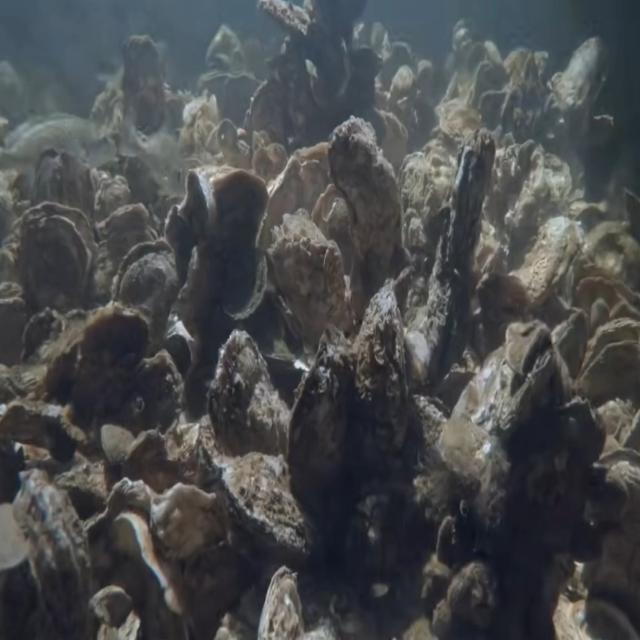Oyster-Closed: (328, 116, 402, 293), (204, 446, 312, 564), (254, 564, 304, 639), (100, 421, 138, 466)
Oyster-Indeterminate: (428, 130, 496, 345), (448, 320, 562, 446), (11, 466, 90, 640), (286, 322, 356, 514), (268, 208, 346, 348), (47, 304, 150, 402), (205, 328, 282, 456), (354, 278, 407, 460), (212, 168, 270, 320), (20, 199, 99, 309), (505, 215, 586, 313), (396, 152, 440, 292), (128, 348, 184, 432), (551, 312, 590, 390)
Oyster-Open: (112, 236, 180, 348), (574, 316, 640, 416), (164, 166, 212, 270)
